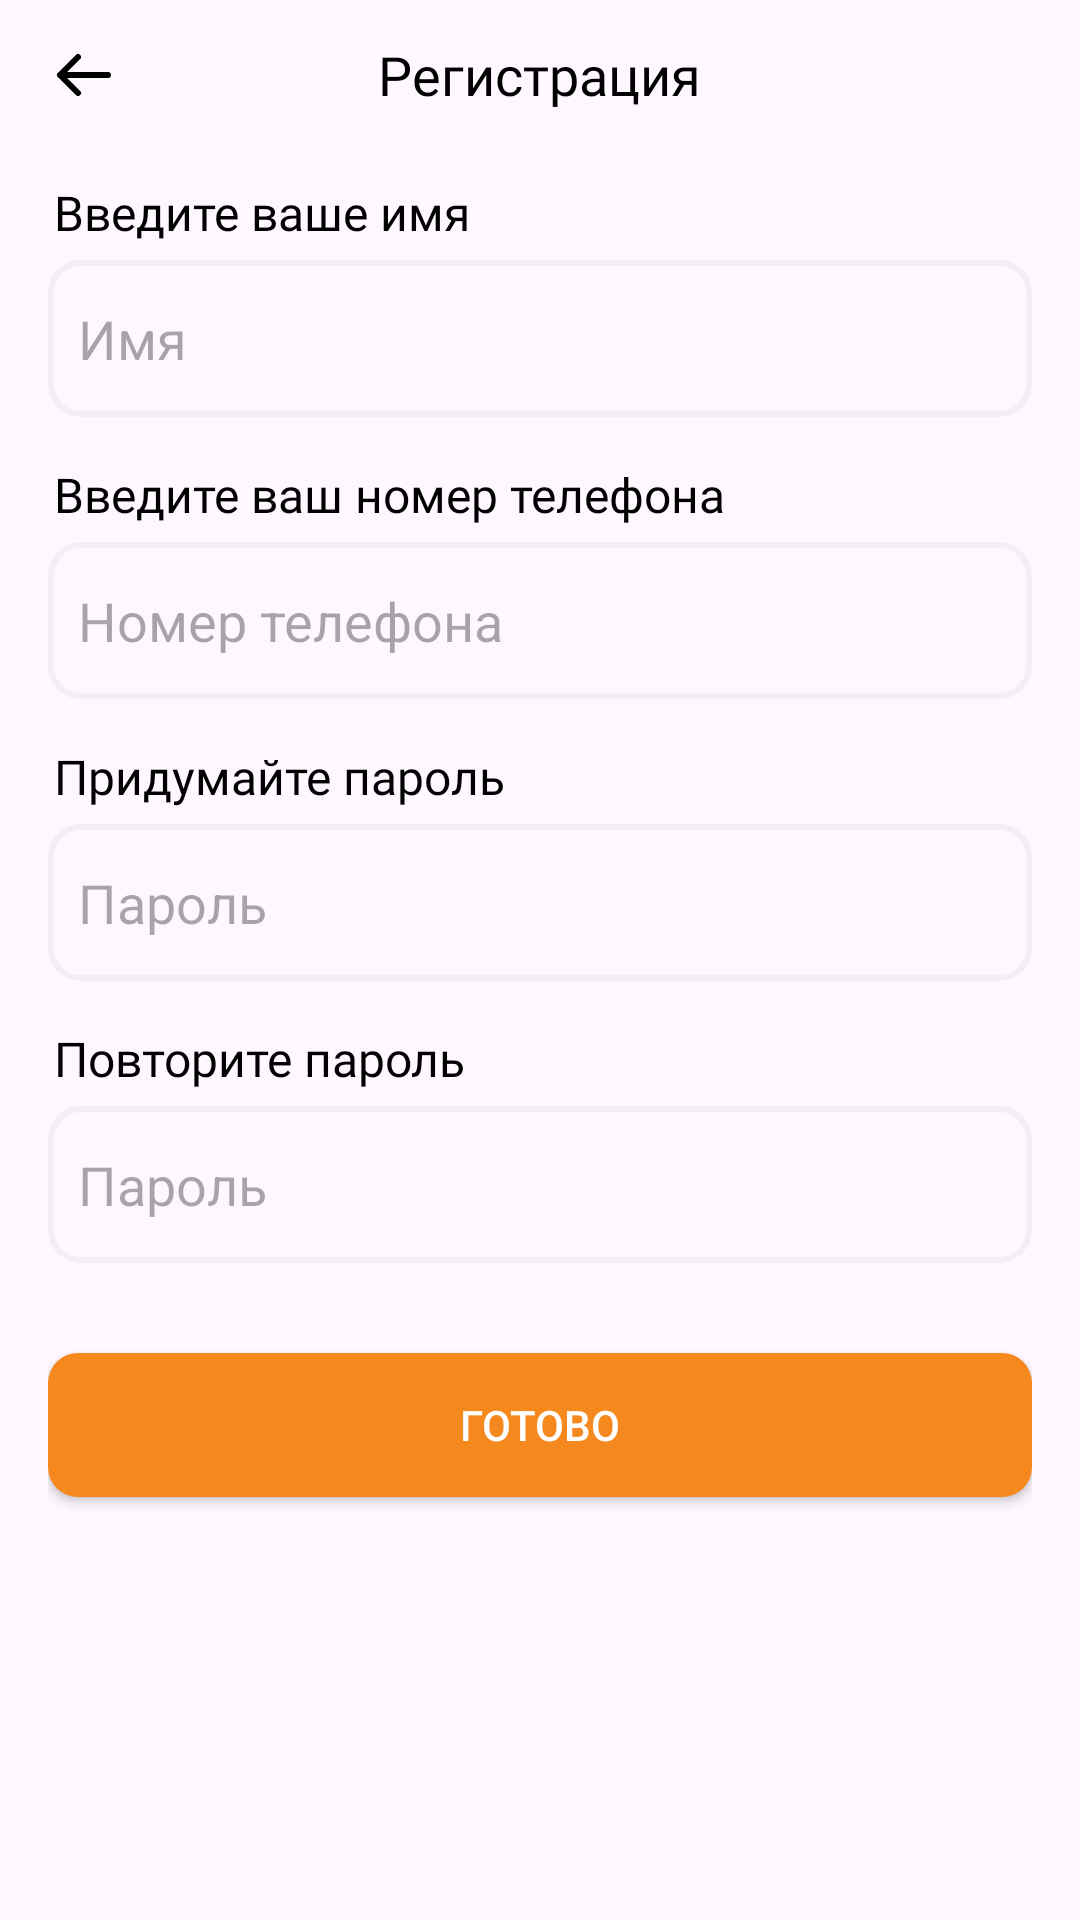

Where to tap for icons on this 1080x1920 app screen, as point (x, y):
back arrow: point (84, 75)
